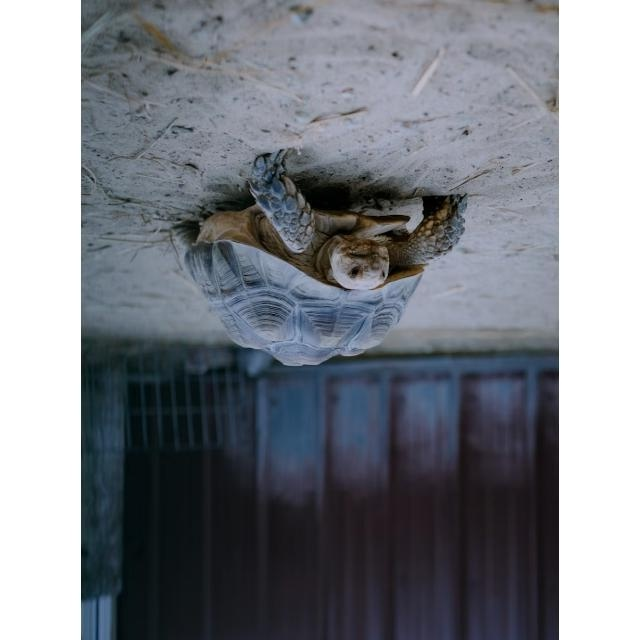turtle: (167, 146, 468, 367)
